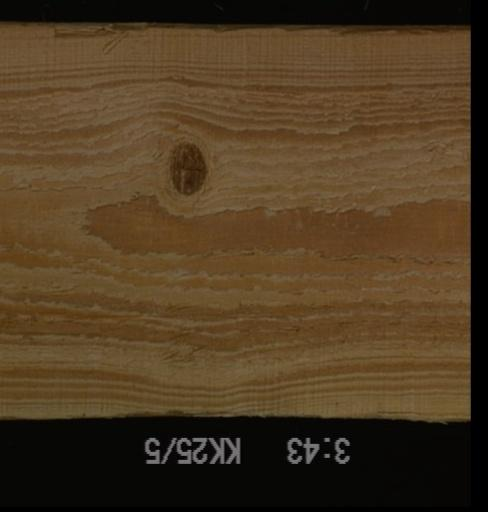sound_knot: (163, 140, 207, 196)
wave: (46, 20, 468, 36), (96, 408, 364, 419)
